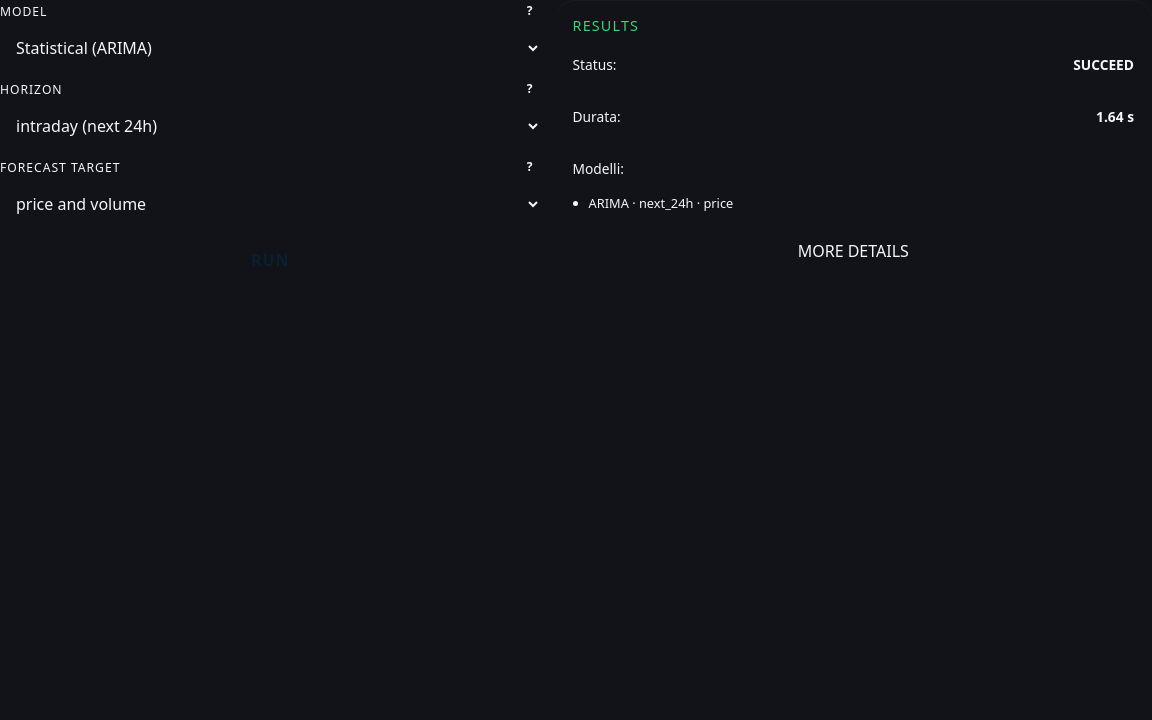
it: ForecastEnginePanel › keeps RESULTS compact and moves detailed metrics into the details modal
The width and height of the screenshot is (1152, 720).
Expected: the text "RESULTS" is shown, [572,16,639,35]
Expected: the text "SUCCEED" is shown, [1073,55,1134,74]
Click the button "MORE DETAILS" at (853, 251), box [787,233,920,269]
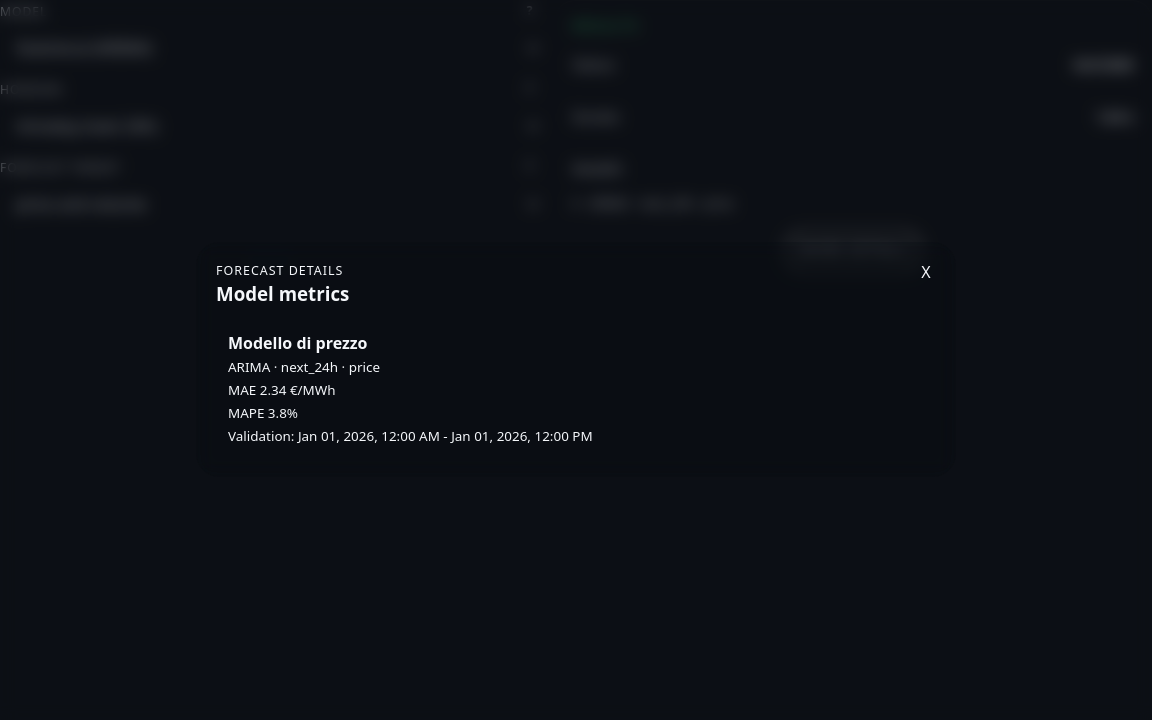
Now the heading "Modello di prezzo" is shown, box [228,332,368,354]
Now the text "MAE 2.34 €/MWh" is shown, box [228,381,336,399]
Now the text "MAPE 3.8%" is shown, box [228,404,298,422]
